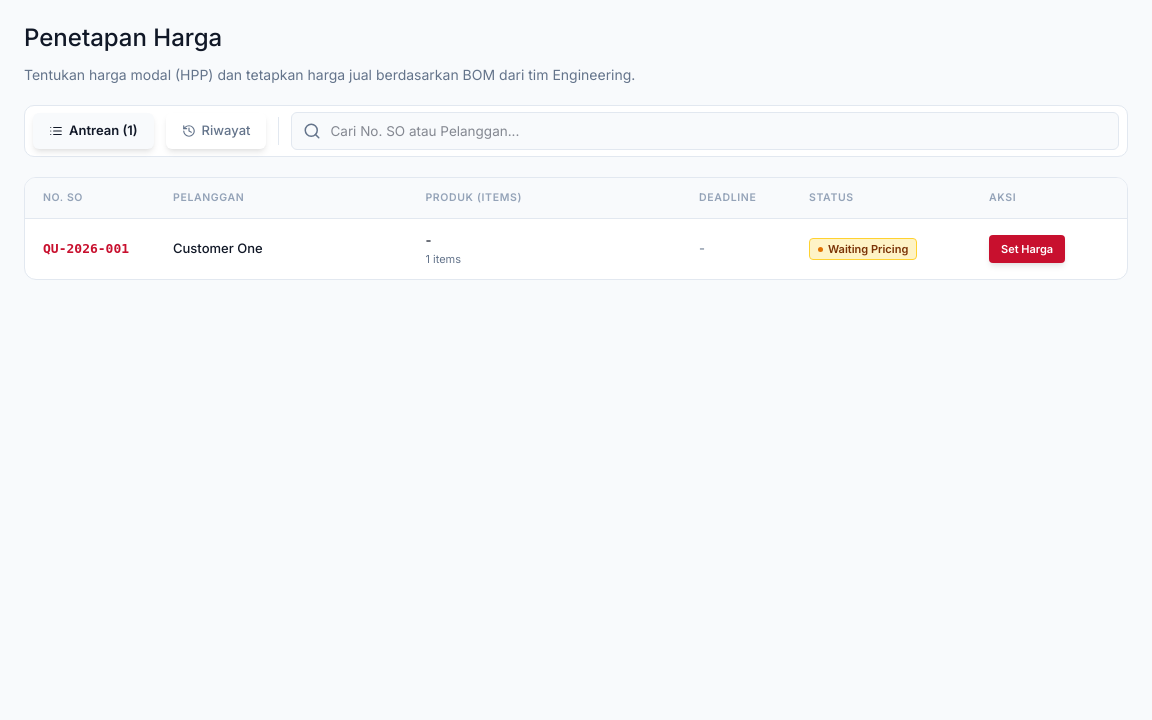
FinanceCosting pricing API selection › uses the dedicated quotation pricing endpoint and only then shows success
Expected: the text "QU-2026-001" is shown, [43, 241, 129, 256]
Click the button "Set Harga" at [1027, 249], box [989, 235, 1065, 263]
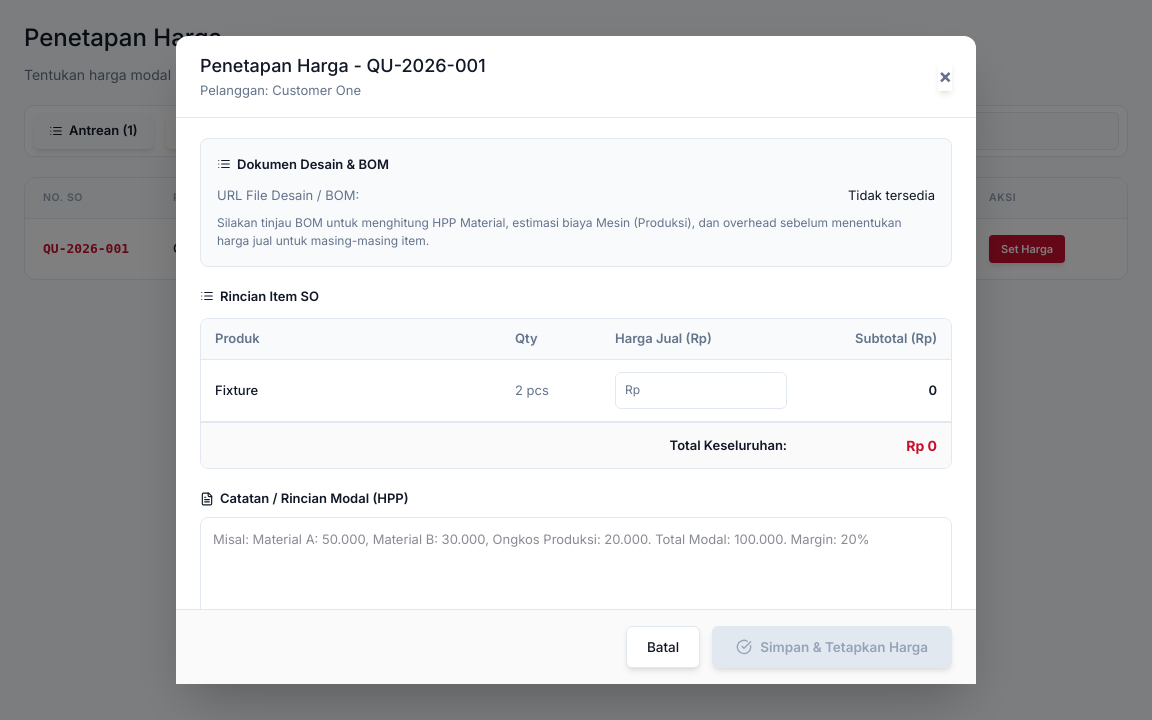
Type "1.000" into the field at [701, 390], box [615, 372, 787, 409]
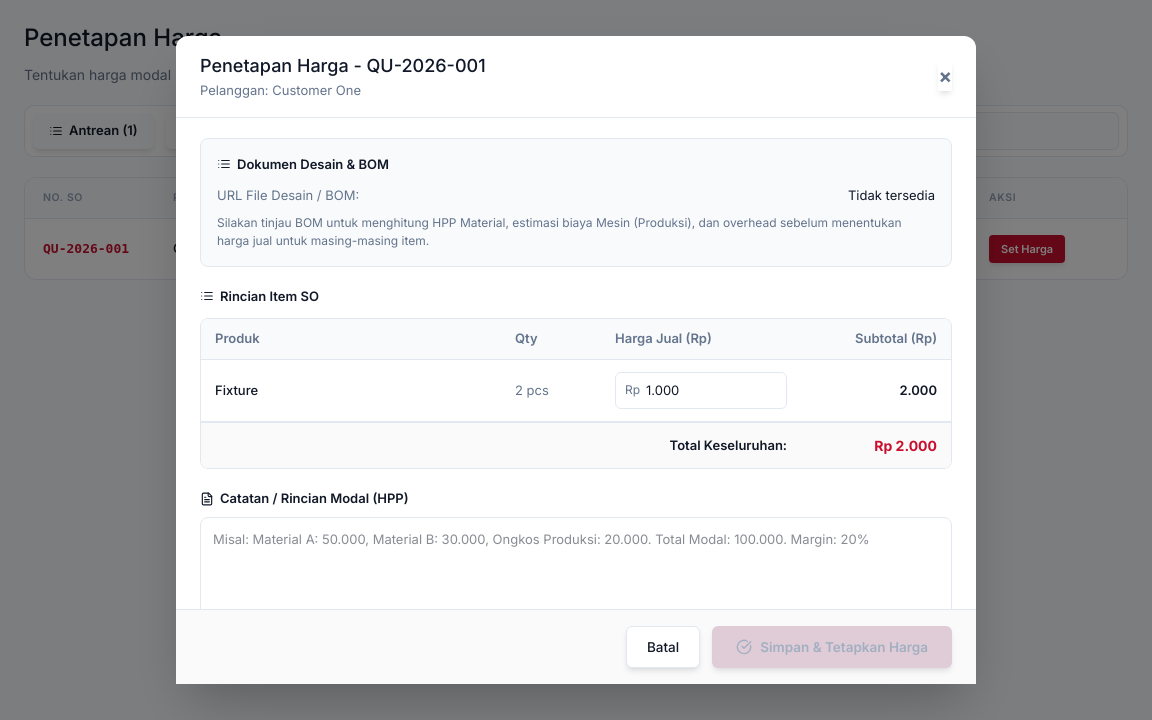
Click the button "Simpan & Tetapkan Harga" at [832, 647], box [712, 626, 952, 668]
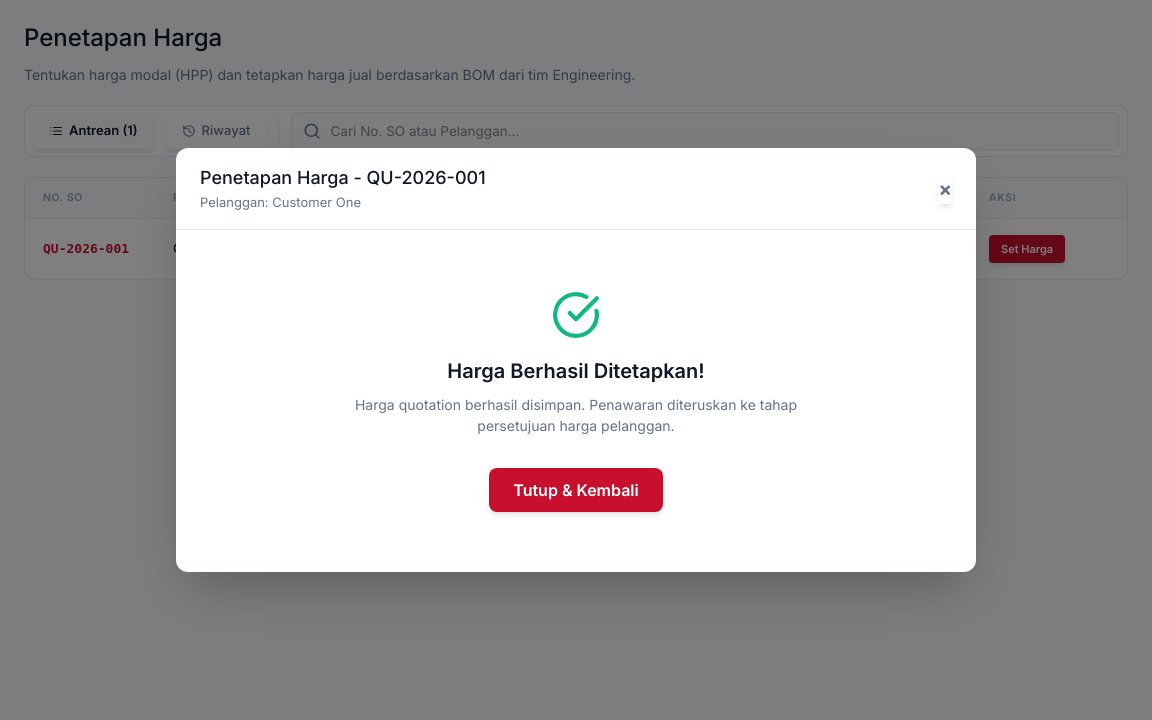
Expected: the heading "Harga Berhasil Ditetapkan!" is shown, [447, 356, 705, 386]
